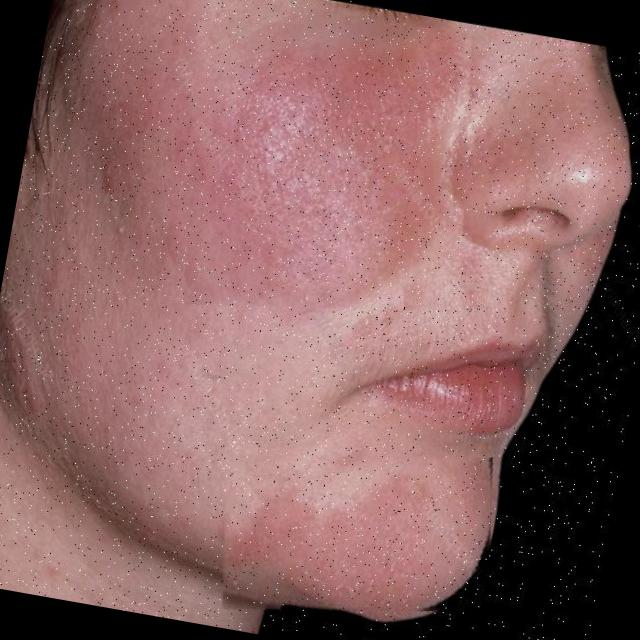redness: (189, 27, 471, 307), (225, 457, 493, 611)
